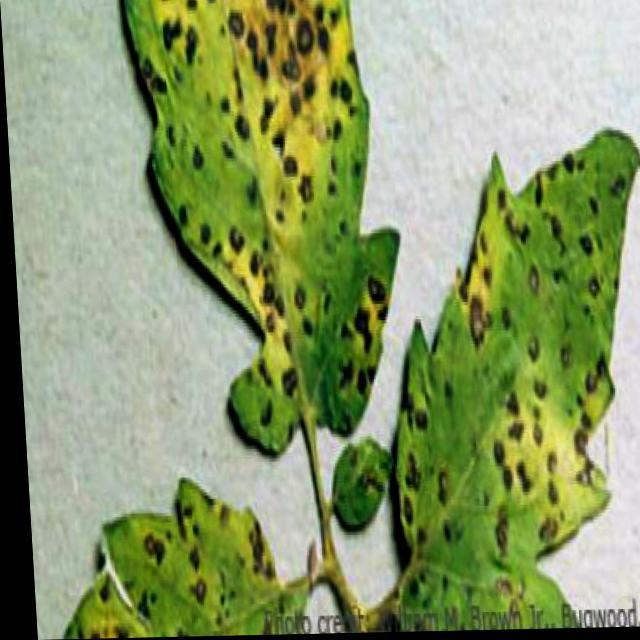Tomato late blight leaf: (109, 0, 411, 477), (368, 122, 639, 632), (37, 466, 288, 638)
